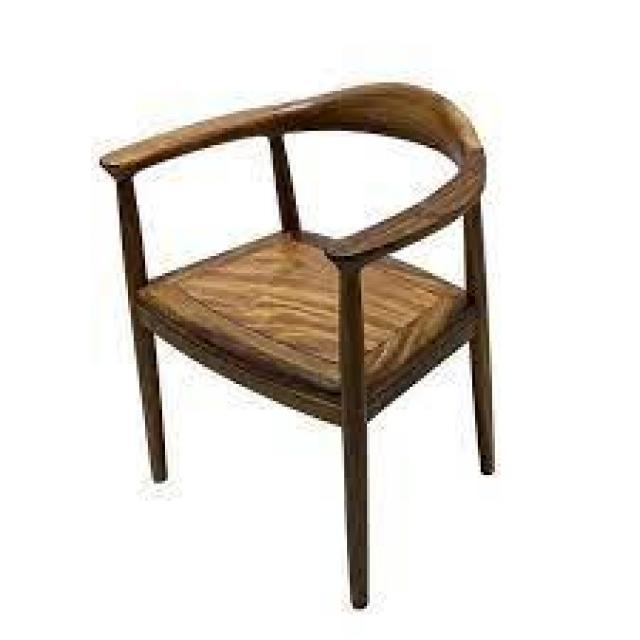chair: (77, 66, 554, 592)
